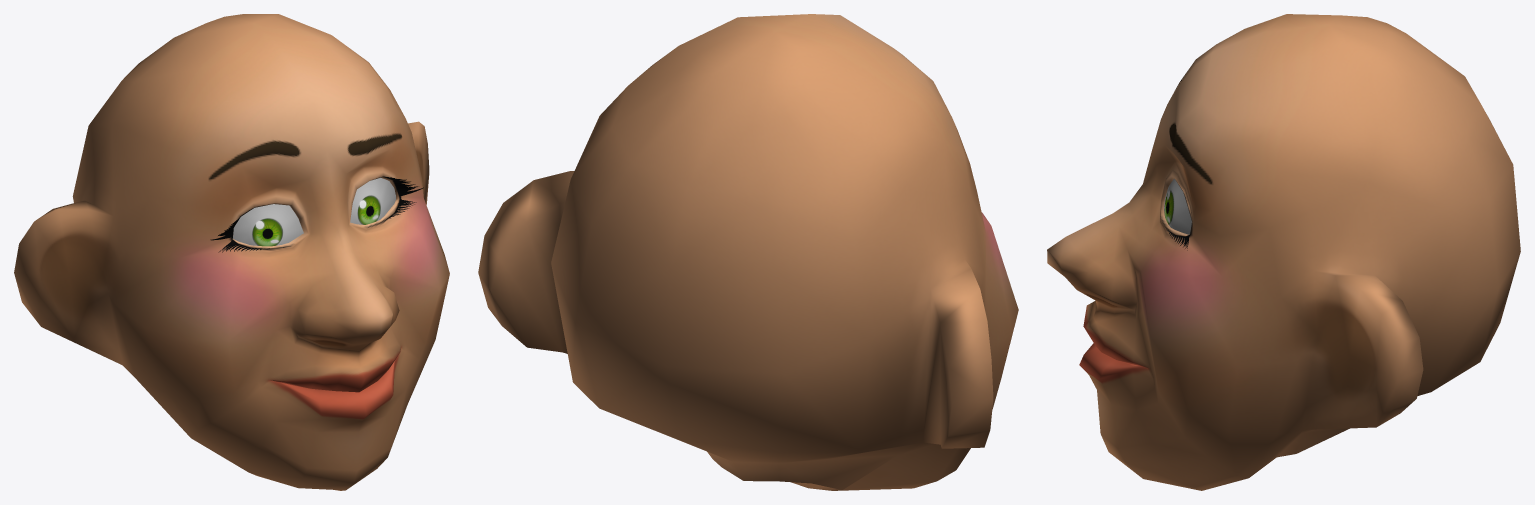
File: F_floatturnR.fbx
The picture shows the model from 3 angles, left to right: view 1: azimuth 30°, elevation 25°; view 2: azimuth 150°, elevation 25°; view 3: azimuth 270°, elevation 25°; orthographic projection. The views are drawn at different scales.
Visible parts, largest first — view 1: HEAD; view 2: HEAD; view 3: HEAD.
Part boxes in pixels (box(x1,y1,x2,y2)): HEAD: box(14, 14, 449, 490); HEAD: box(478, 14, 1018, 490); HEAD: box(1047, 14, 1520, 490).
Size of the model in its own units: 27.45 by 25.53 by 24.63.
